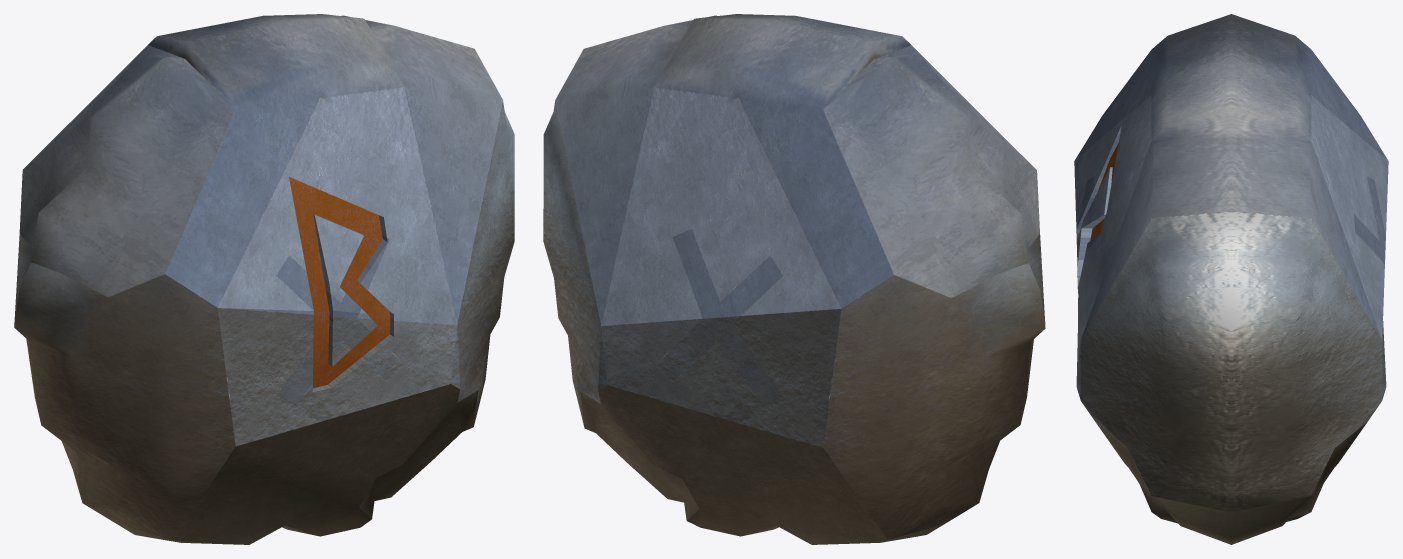
Rendered from Slam_Geb.fbx.
3 views of the same model, side by side, from view 1: azimuth 30°, elevation 25°; view 2: azimuth 150°, elevation 25°; view 3: azimuth 270°, elevation 25° (orthographic). The views are drawn at different scales.
Visible parts, largest first — view 1: Q_Nate's Balance; view 2: Q_Nate's Balance; view 3: Q_Nate's Balance.
Boxes of the visible parts, x1,y1,x2,y2 form: Q_Nate's Balance: (14, 14, 514, 544); Q_Nate's Balance: (543, 14, 1045, 544); Q_Nate's Balance: (1074, 14, 1388, 544).
Bounding box in the file's own units: 60.15 × 60.84 × 37.36.
1 material, 1 textured.
